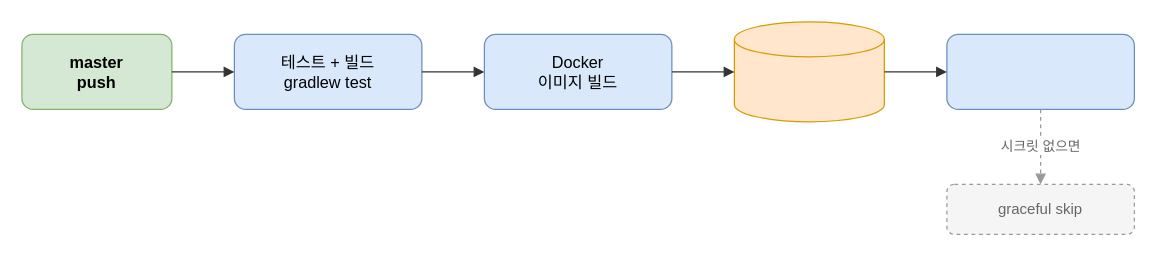
This 1156x256 diagram has some shape labels left out. The shapes that lost their labels are listed below. From the top down, each one's box as (x1, y1, x2, y2) in pixels, then its label:
(733, 21, 884, 122): GHCR 이미지 레지스트리
(946, 33, 1134, 109): 서버 SSH pull + 재시작
